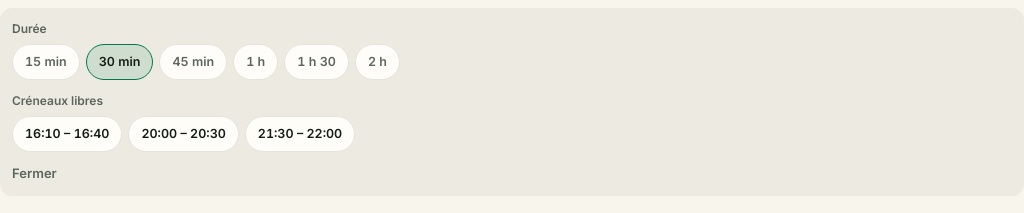
Test: PlanifierPanneau › recalcule les créneaux quand la durée change
The image size is (1024, 213).
Expected: the button named "Planifier de 16:10 à 16:40" is shown, [12,116,122,152]
Click the button "2 h" at (377, 62), box [355,44,400,80]
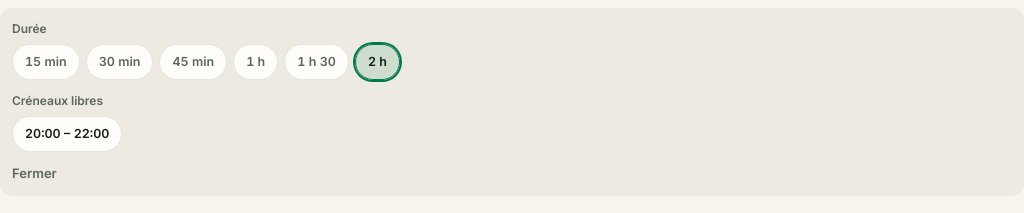
Now the button named "Planifier de 20:00 à 22:00" is shown, box [12,116,122,152]
